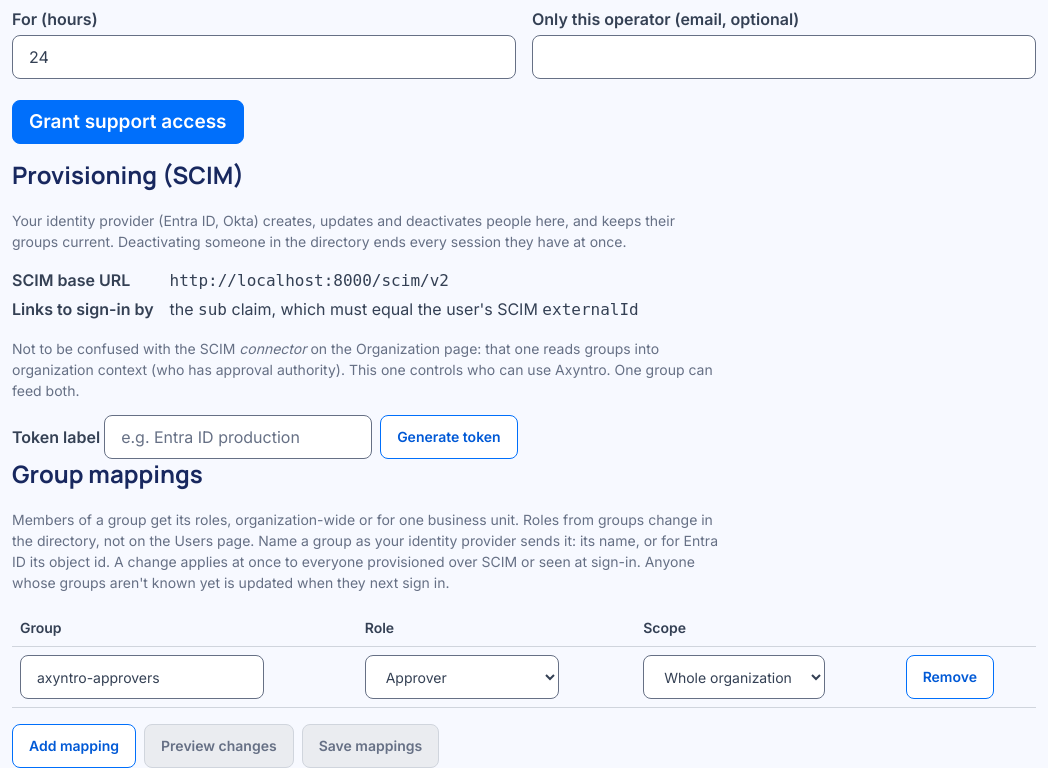
Test case: Directory page (Epic 37, US37.10-37.11) › shows a new SCIM token once, with the base URL to configure
This screenshot has width=1048, height=768.
(page scrolled)
expect the text "http://localhost:8000/scim/v2" is shown: met, box left=170, top=271, right=449, bottom=290
Type "Entra ID" into the field labelled "Token label".
click(238, 437); type("Entra ID")  # box left=104, top=415, right=372, bottom=459
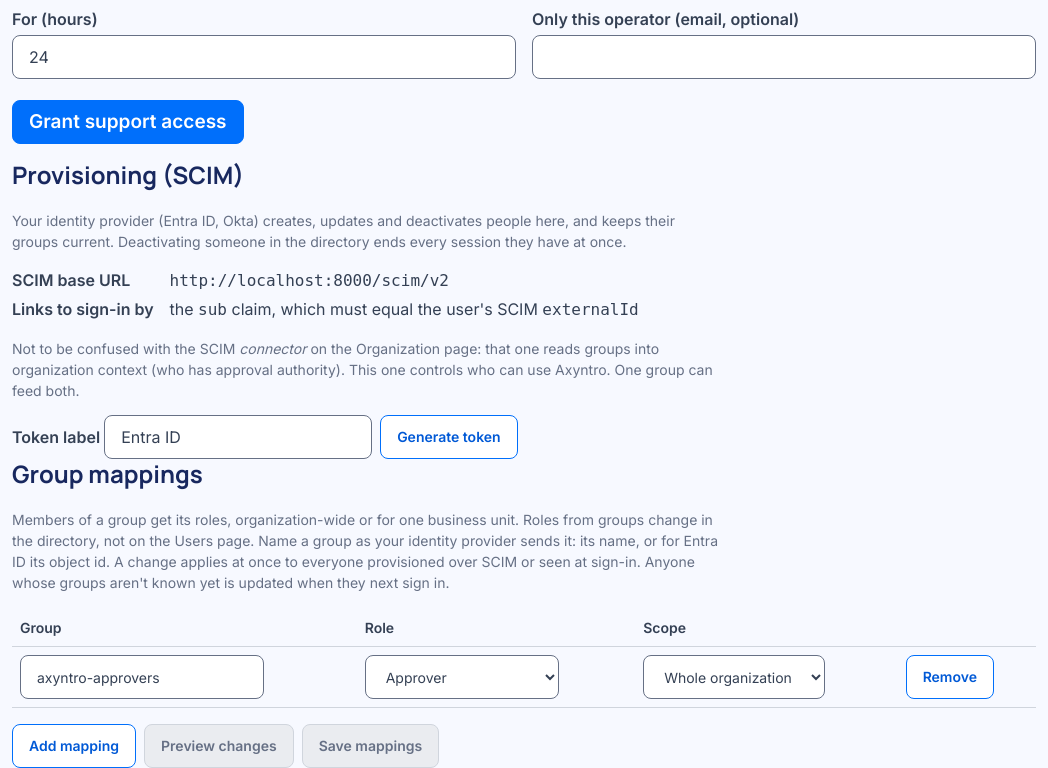
Click the button "Generate token".
click(449, 437)  # box left=380, top=415, right=518, bottom=459
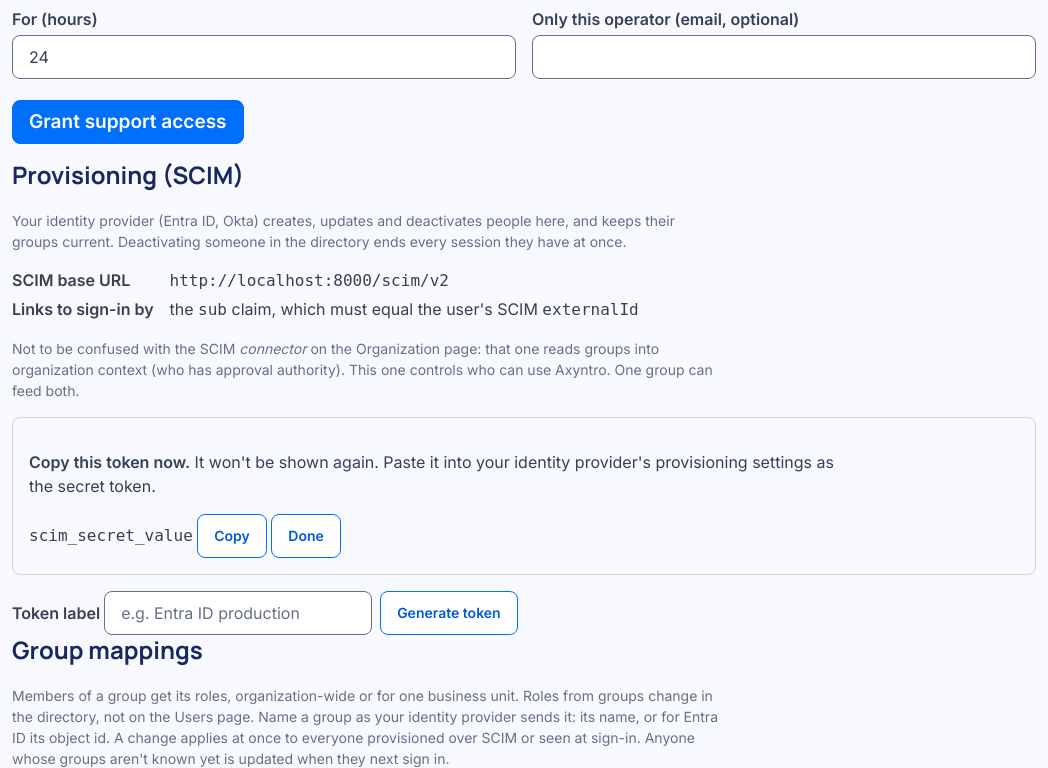
expect the text "scim_secret_value" is shown: met, box left=29, top=526, right=193, bottom=545
Click the button "Done".
click(306, 536)  # box left=271, top=514, right=341, bottom=558
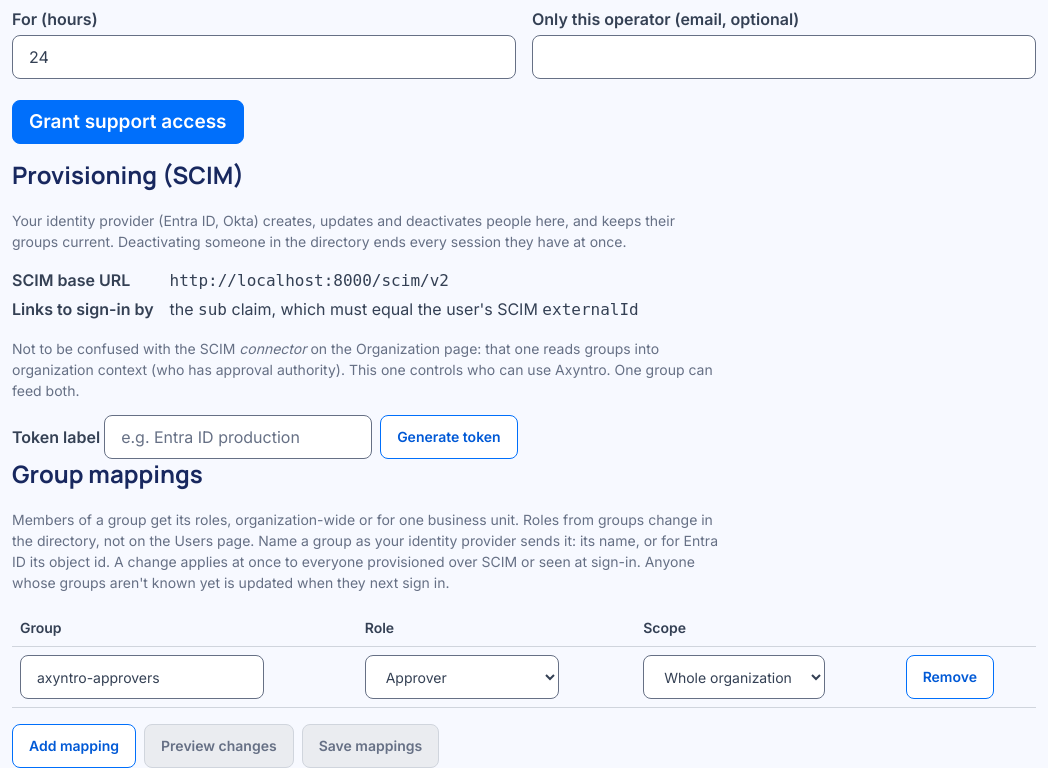
expect the text "scim_secret_value" is gone: met
